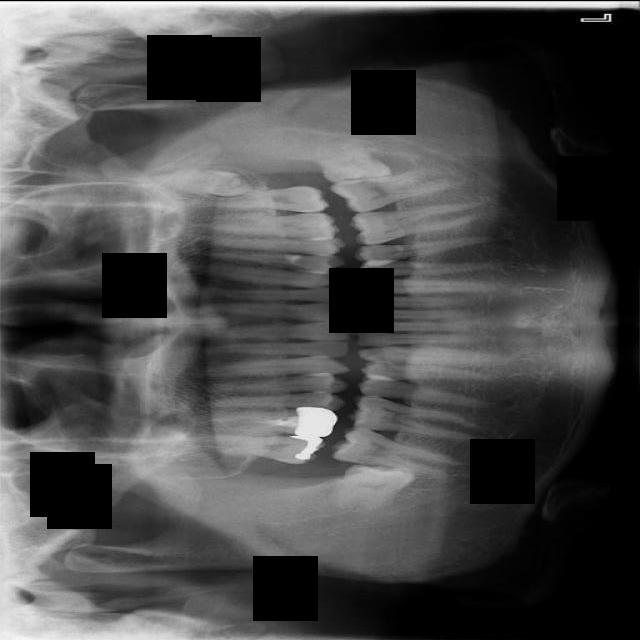52: (263, 433, 326, 465), (284, 404, 339, 438), (356, 177, 378, 184)
73: (207, 409, 290, 435), (568, 47, 573, 50)
BioHorizons Implant: (214, 177, 331, 215)
BioLife Implant: (138, 161, 252, 198)
Biomet 3i Implant: (317, 140, 391, 186)
Blue Sky Bio Implant: (330, 162, 466, 217)
Caries: (215, 435, 326, 464)
Implant: (331, 422, 459, 481)
Keystone Dental Implant: (333, 460, 418, 512)
